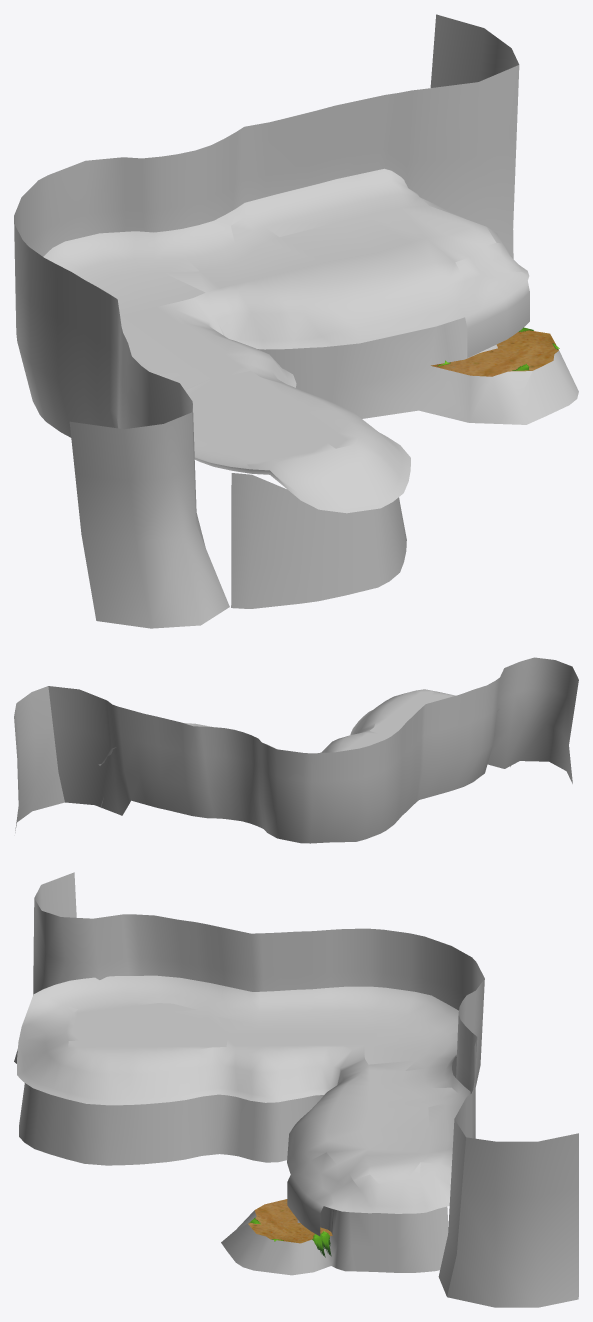
Rendered from 2-1Newest.FBX.
3 renders of one model, top to bottom at view 1: azimuth 30°, elevation 25°; view 2: azimuth 150°, elevation 25°; view 3: azimuth 270°, elevation 25°, orthographic. The views are drawn at different scales.
Parts seen in each view (by area): view 1: Wall, Grass, Soil, Object001; view 2: Wall, Grass; view 3: Grass, Wall, Soil, Object001.
Part boxes in pixels (x1,y1,x2,y2): Wall: (14,14,519,628); Grass: (43,168,529,513); Soil: (231,317,578,608); Object001: (431,330,558,376); Wall: (14,657,578,843); Grass: (98,689,498,765); Grass: (17,975,470,1236); Wall: (14,872,578,1307); Soil: (19,1083,448,1275); Object001: (248,1199,332,1243).
Size of the model in its own units: 122 by 35.01 by 108.
